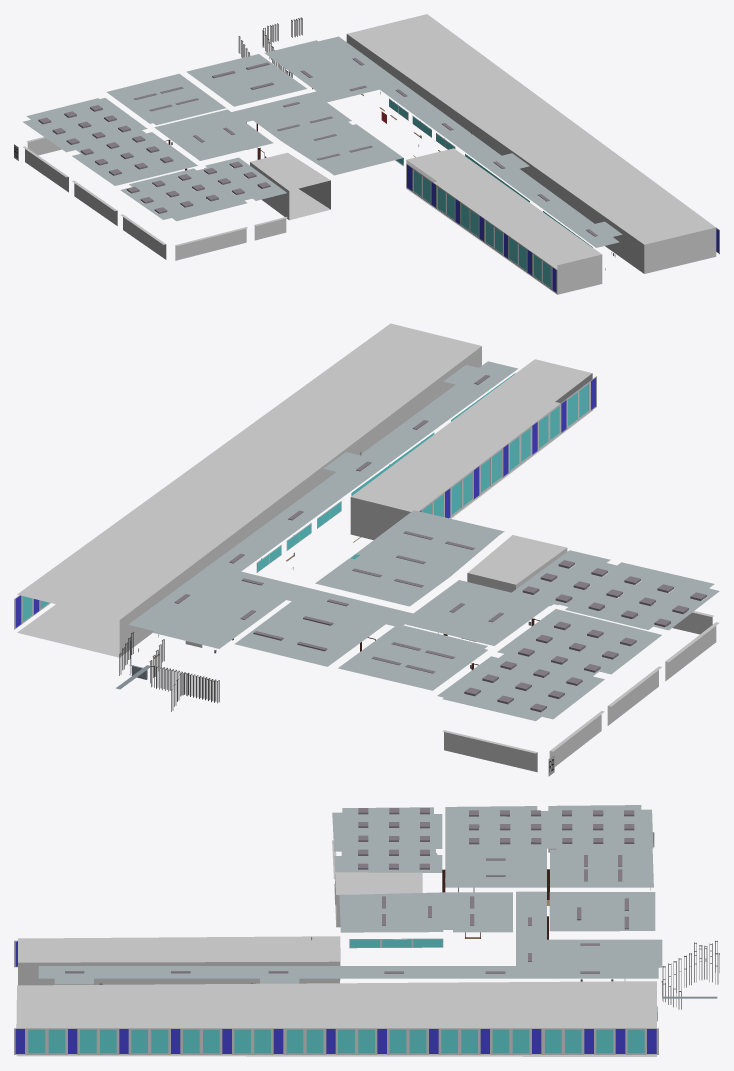
3 renders of one model, top to bottom at view 1: azimuth 30°, elevation 25°; view 2: azimuth 150°, elevation 25°; view 3: azimuth 270°, elevation 25°, orthographic. The views are drawn at different scales.
Parts seen in each view (by area): view 1: stena039.064, stena044.496, stena044.497, stena039.062, stena044.001, stena039.366, stena044.498, stena044.124, stena044.123, stena044.143; view 2: stena039.064, stena044.496, stena044.497, stena039.062, stena039.366, stena044.001, stena044.123, stena044.498, stena044.143, stena044.124; view 3: stena039.064, stena044.496, stena044.274, stena044.497, stena039.062, stena039.366, stena044.498, stena044.143, stena044.003.
Part boxes in pixels (bbox=[...]): stena039.064: bbox=[106, 36, 622, 247]; stena044.496: bbox=[346, 14, 716, 273]; stena044.497: bbox=[406, 148, 602, 294]; stena039.062: bbox=[22, 98, 197, 185]; stena044.001: bbox=[406, 164, 557, 293]; stena039.366: bbox=[38, 58, 597, 236]; stena044.498: bbox=[250, 152, 330, 220]; stena044.124: bbox=[121, 214, 287, 260]; stena044.123: bbox=[23, 137, 117, 225]; stena044.143: bbox=[238, 17, 302, 77]; stena039.064: bbox=[128, 361, 719, 690]; stena044.496: bbox=[17, 323, 481, 657]; stena044.497: bbox=[350, 359, 592, 540]; stena039.062: bbox=[437, 609, 661, 721]; stena039.366: bbox=[174, 375, 706, 712]; stena044.001: bbox=[419, 376, 596, 518]; stena044.123: bbox=[442, 666, 661, 772]; stena044.498: bbox=[467, 535, 567, 594]; stena044.143: bbox=[119, 631, 219, 711]; stena044.124: bbox=[567, 586, 718, 681]; stena039.064: bbox=[38, 807, 662, 984]; stena044.496: bbox=[16, 981, 656, 1056]; stena044.274: bbox=[14, 1028, 658, 1054]; stena044.497: bbox=[18, 936, 340, 985]; stena039.062: bbox=[445, 805, 653, 848]; stena039.366: bbox=[65, 808, 634, 973]; stena044.498: bbox=[335, 872, 422, 927]; stena044.143: bbox=[662, 940, 719, 1009]; stena044.003: bbox=[349, 938, 443, 948].
Size of the model in its own units: 3076 by 534 by 4104.
